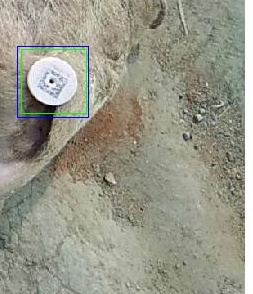text: (21, 49, 86, 113)
